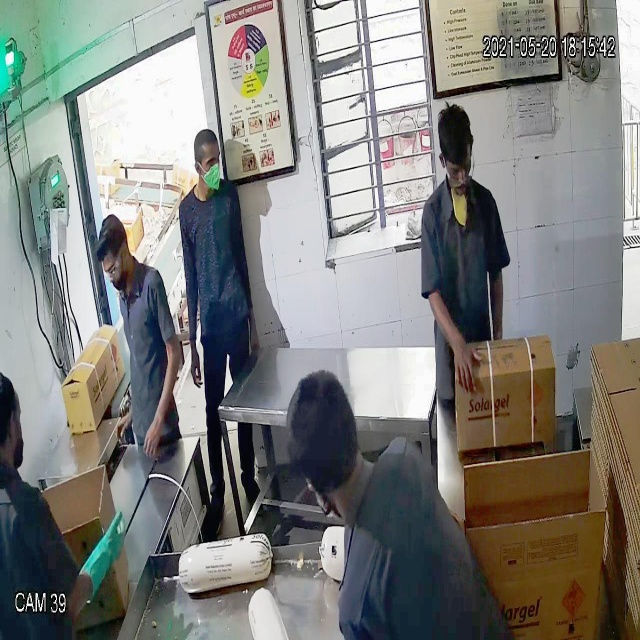Gafas: (440, 146, 477, 193), (96, 253, 126, 287)
